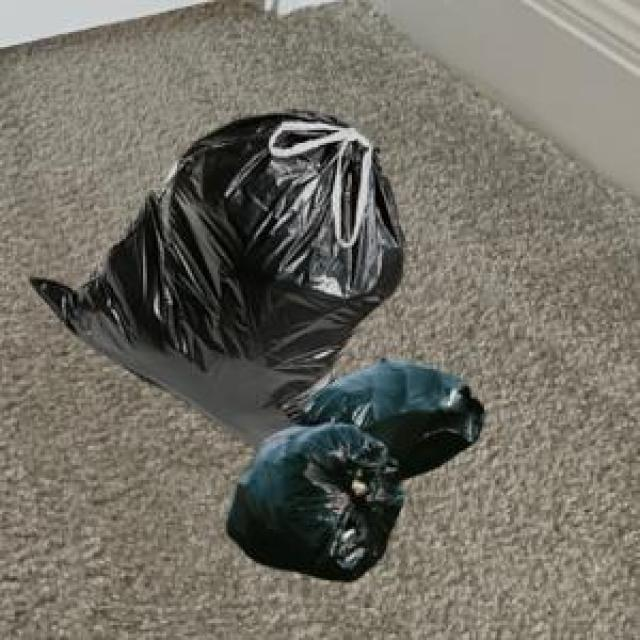waste: (30, 112, 484, 581)
